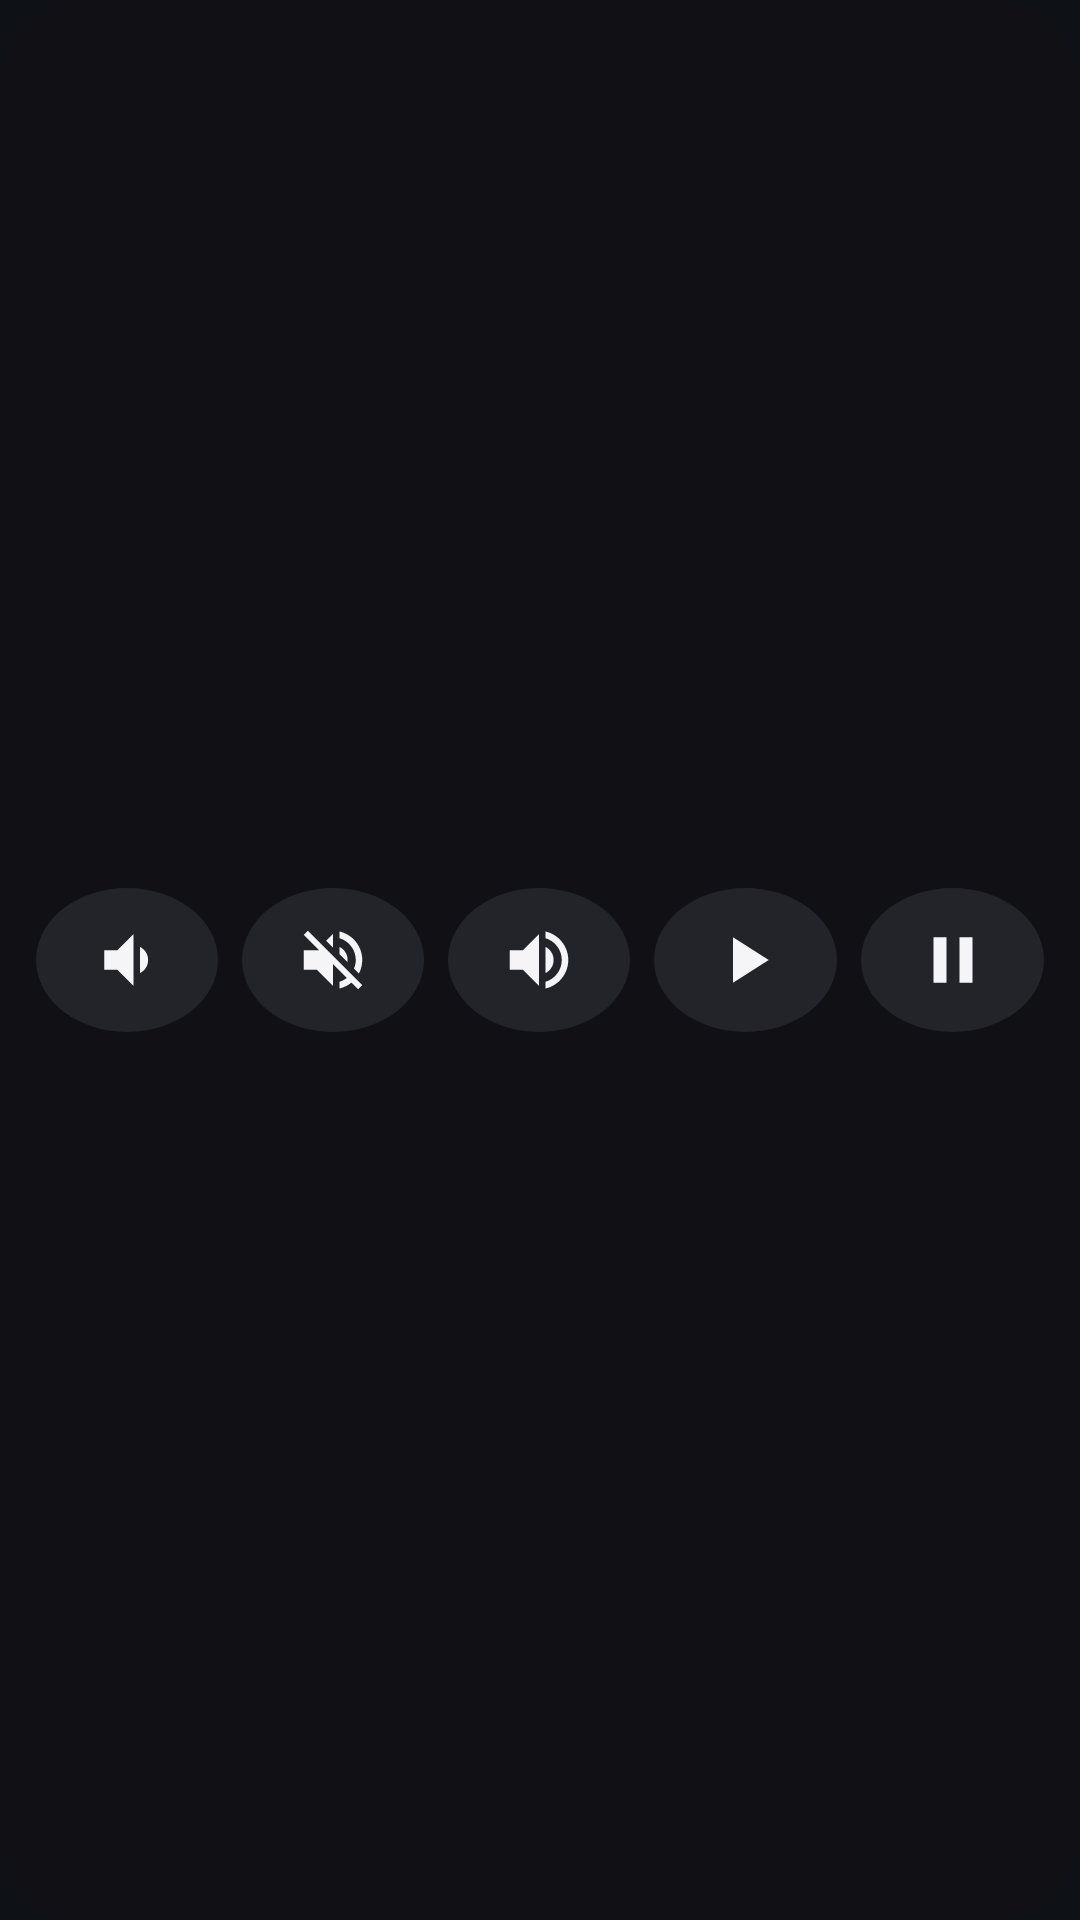

Point at icon controls on the screen. Image size 1080px×1920px, points as (x=x, y=y).
Mute: (x=333, y=960)
Pause: (x=953, y=960)
Play: (x=751, y=960)
Volume down: (x=127, y=960)
Volume up: (x=539, y=960)
